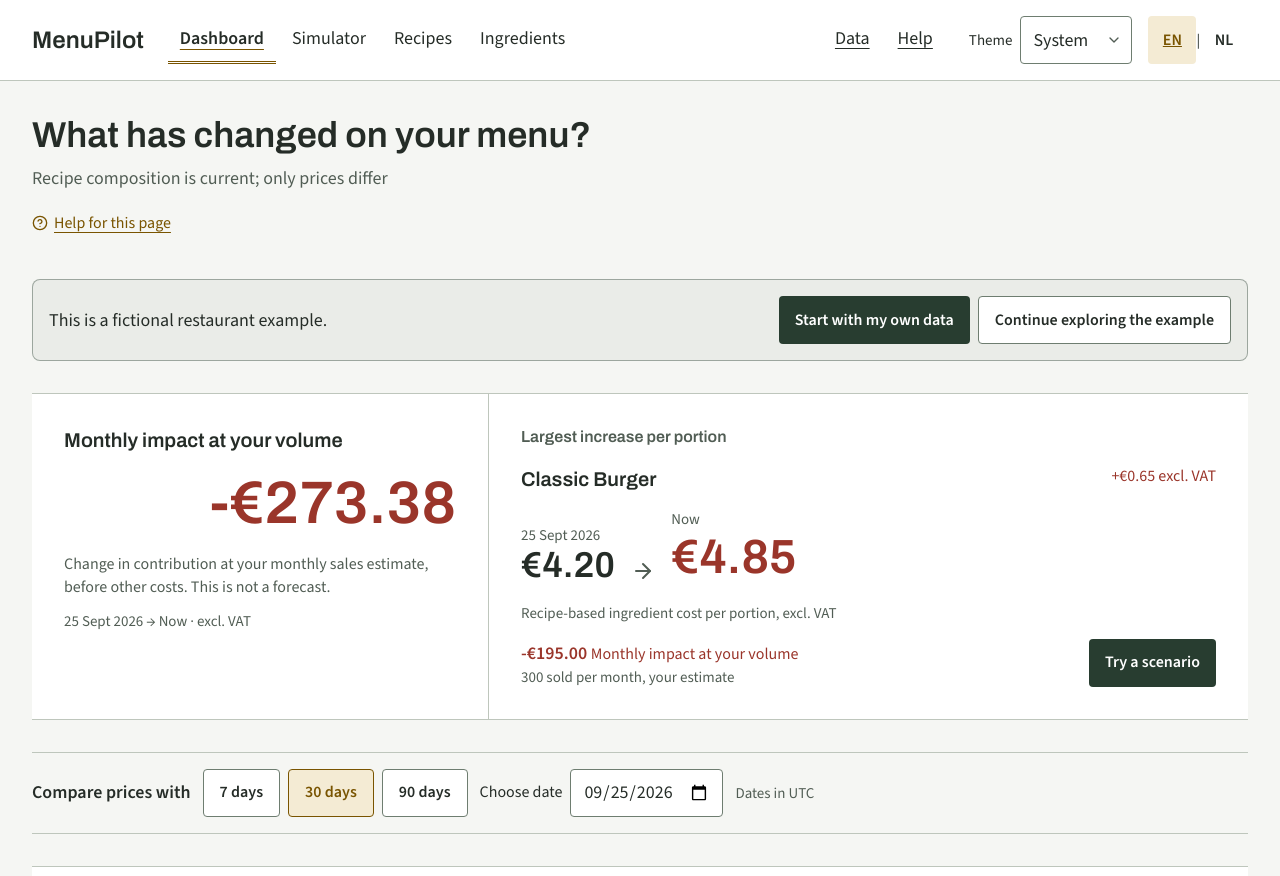
C+ dashboard › translates the question, comparison and figures without translating dish names
This screenshot has width=1280, height=876.
Click the button with aria-label "NL – Nederlands" at (1224, 40), box 1200,16 -> 1248,64
(page scrolled)
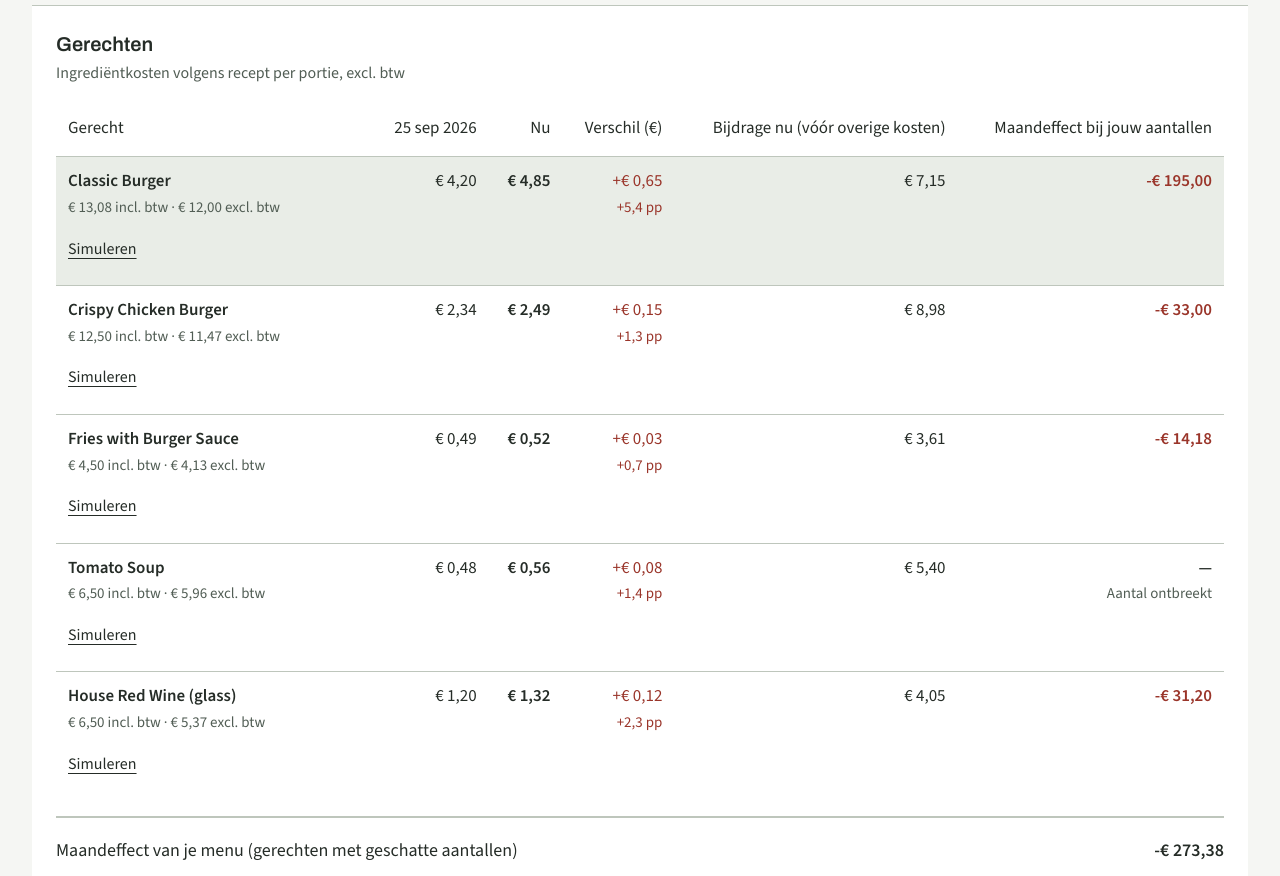
Expected: the link "Classic Burger" is shown, 68,169 -> 171,192
Result: the table named "Vergelijking van gerechtkosten" shows "€ 4,85" at 508,169 -> 550,192
